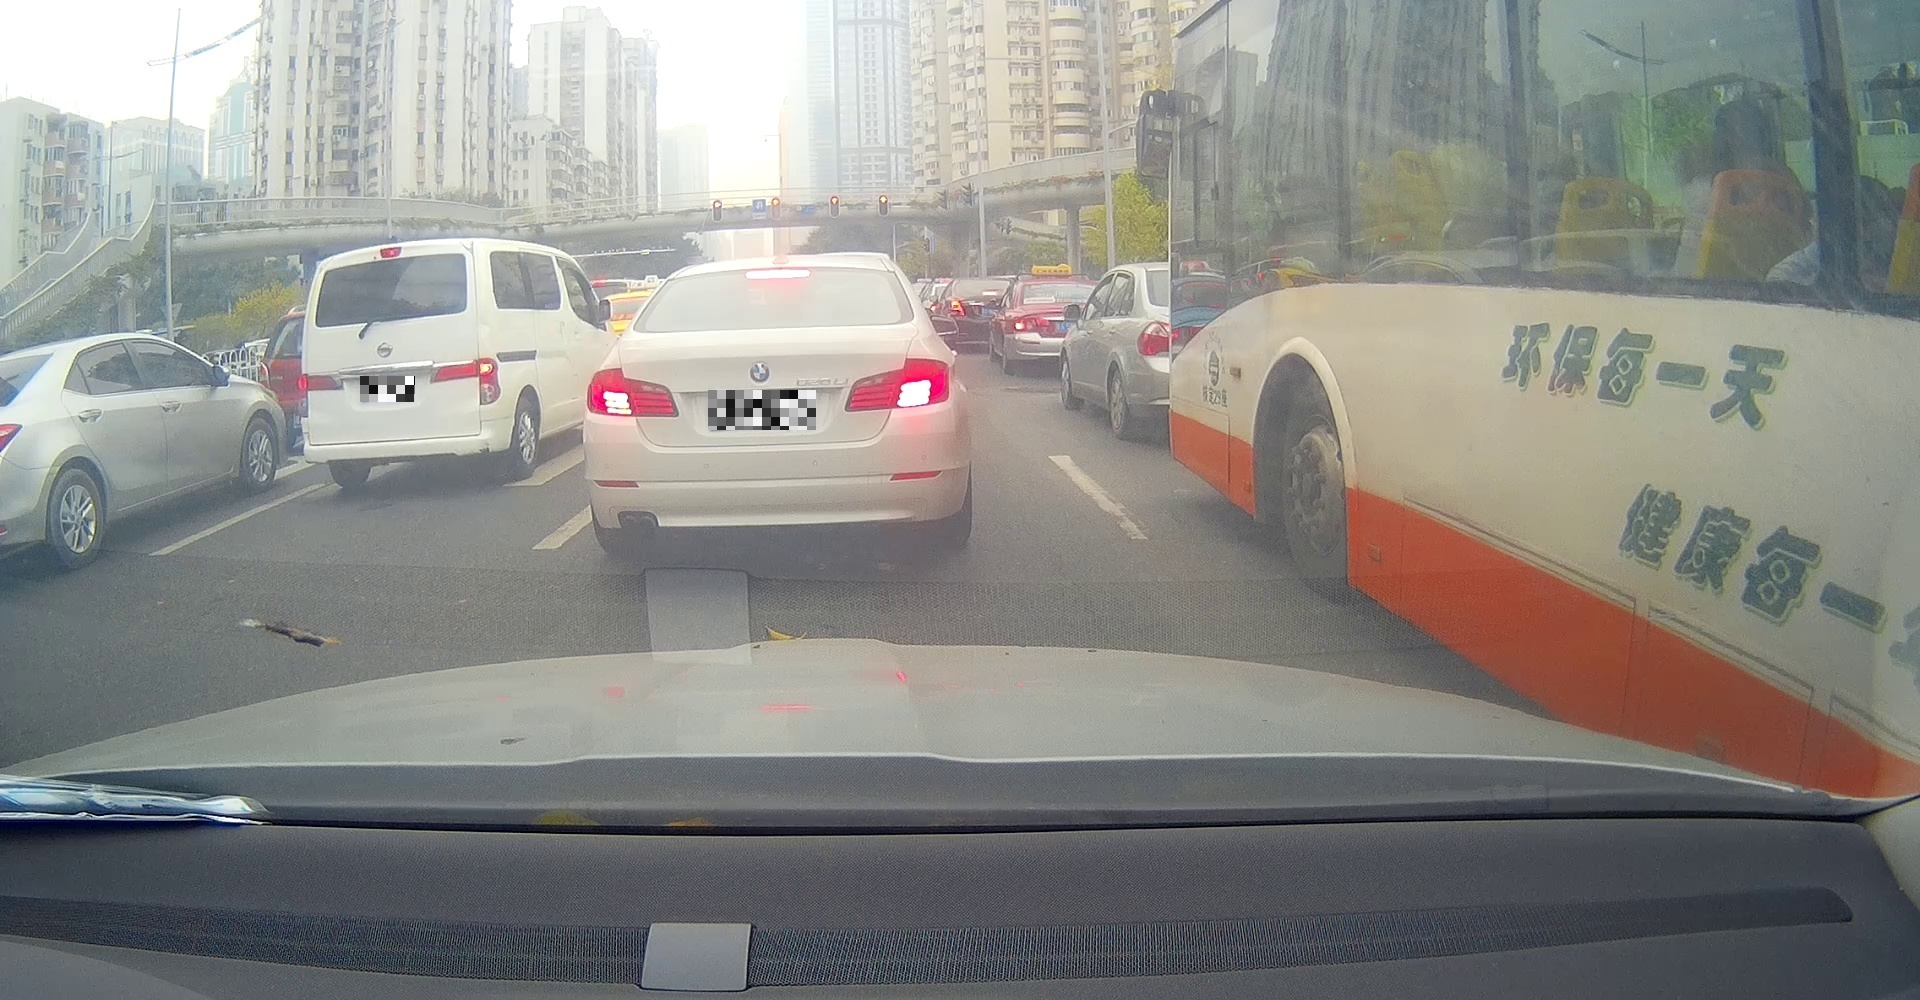L_light: (585, 368, 679, 419), (298, 372, 344, 418)
R_light: (844, 359, 951, 412), (429, 357, 502, 406)
T_light: (744, 270, 811, 280), (378, 245, 403, 258)
day-brake: (582, 253, 974, 555), (295, 236, 508, 487)
plate_1: (361, 376, 415, 402)
plate_2: (709, 390, 817, 430)
